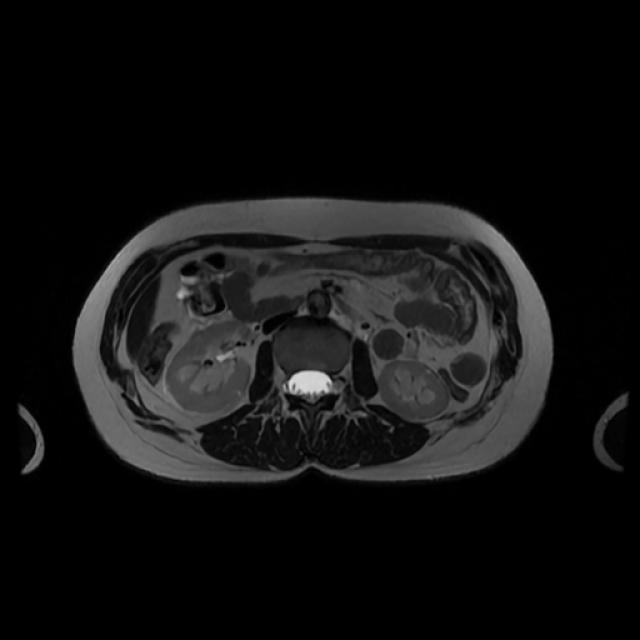sag: (169, 322, 253, 413)
sol: (382, 361, 447, 417)
